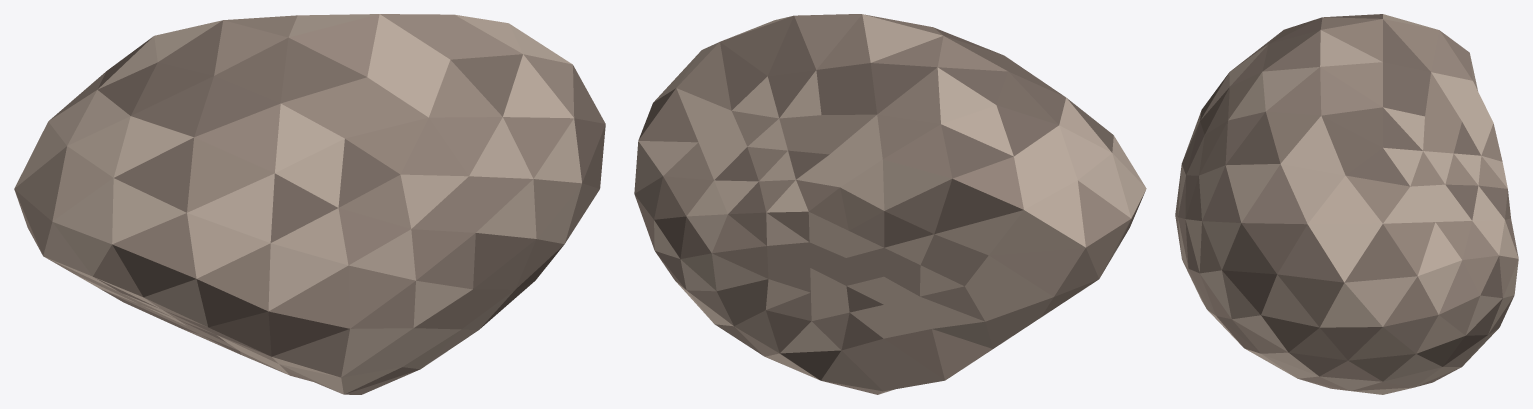
The model's file is debris_rock.glb.
3 renders of one model, left to right at view 1: azimuth 30°, elevation 25°; view 2: azimuth 150°, elevation 25°; view 3: azimuth 270°, elevation 25°, orthographic. The views are drawn at different scales.
Visible parts, largest first — view 1: debris_rock; view 2: debris_rock; view 3: debris_rock.
Part boxes in pixels (x1,y1,x2,y2): debris_rock: (14, 14, 605, 394); debris_rock: (634, 14, 1146, 394); debris_rock: (1175, 14, 1518, 394).
Bounding box in the file's own units: 0.7275 × 0.48 × 0.4688.
Materials: 1 (1 with a texture image).
